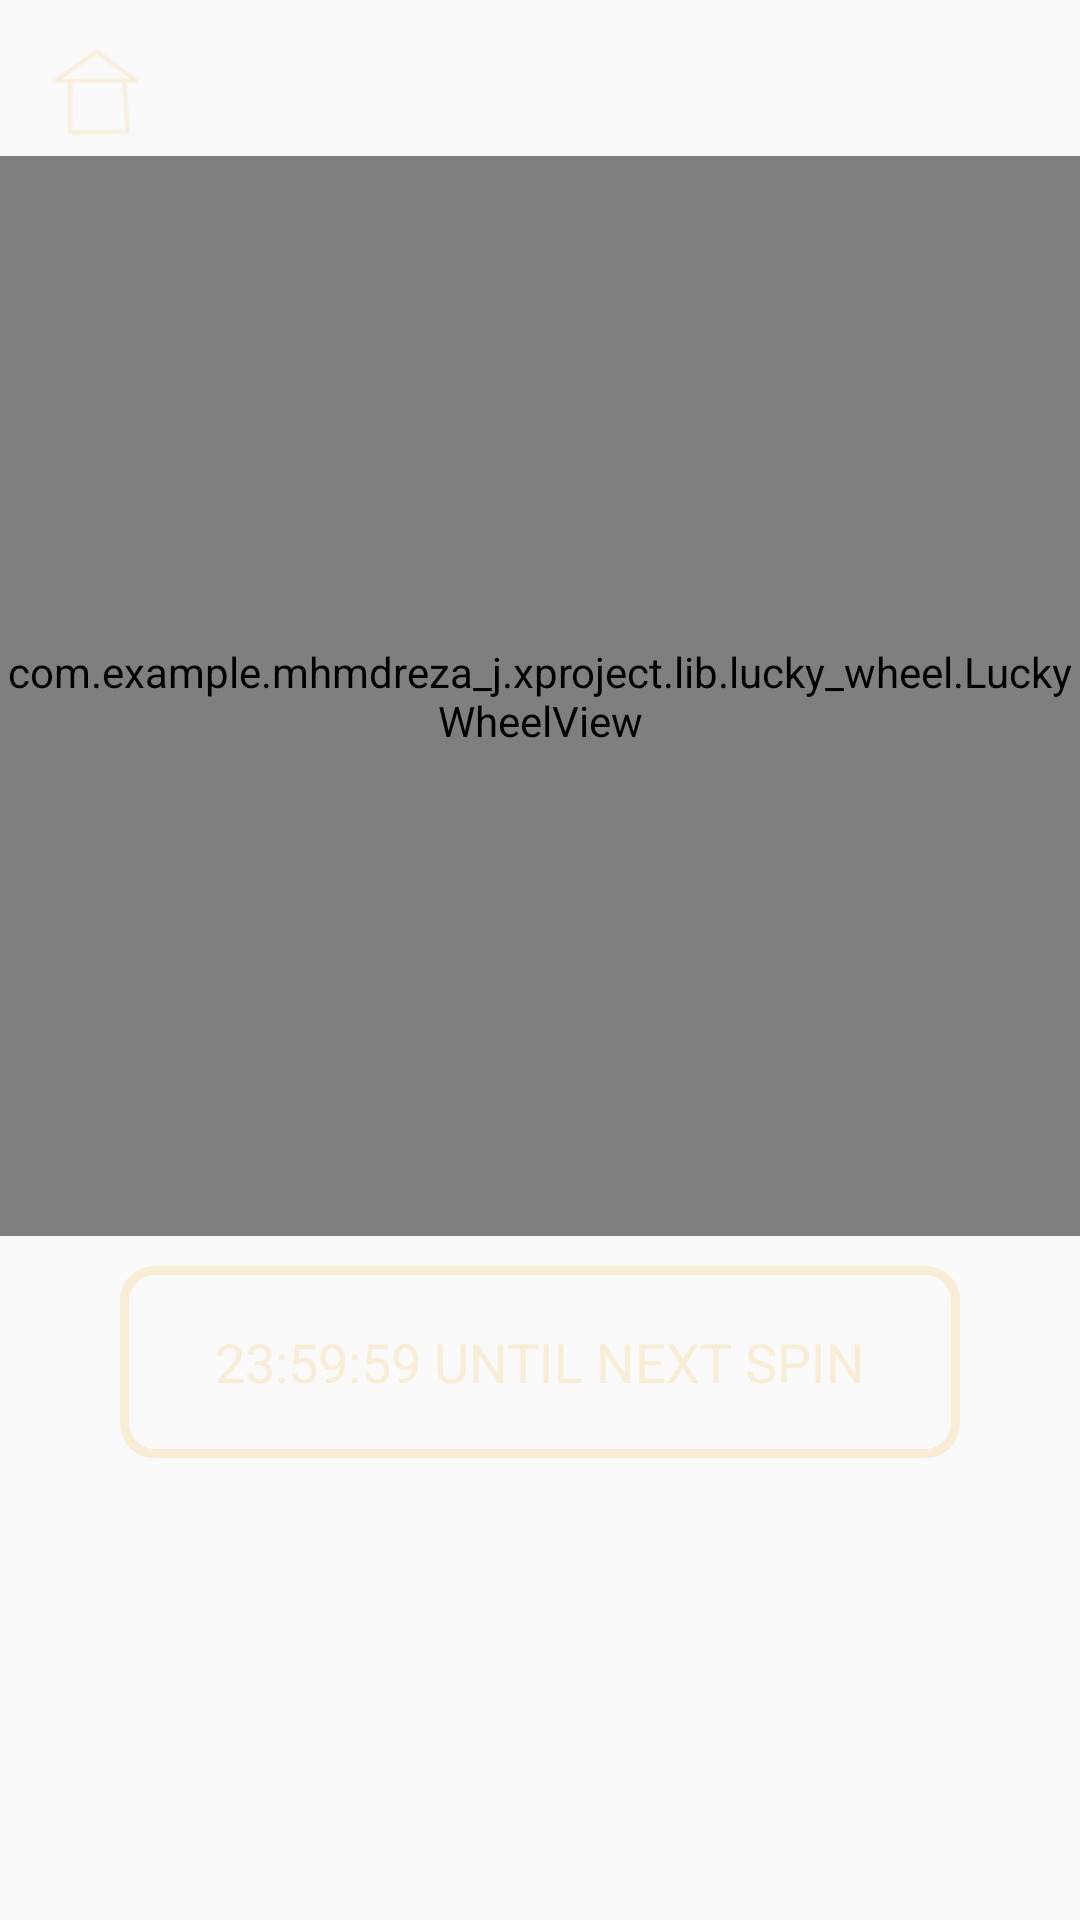

Screen size 1080px×1920px. Icon name, then its center in pixels as (x,y):
home: (95,92)
